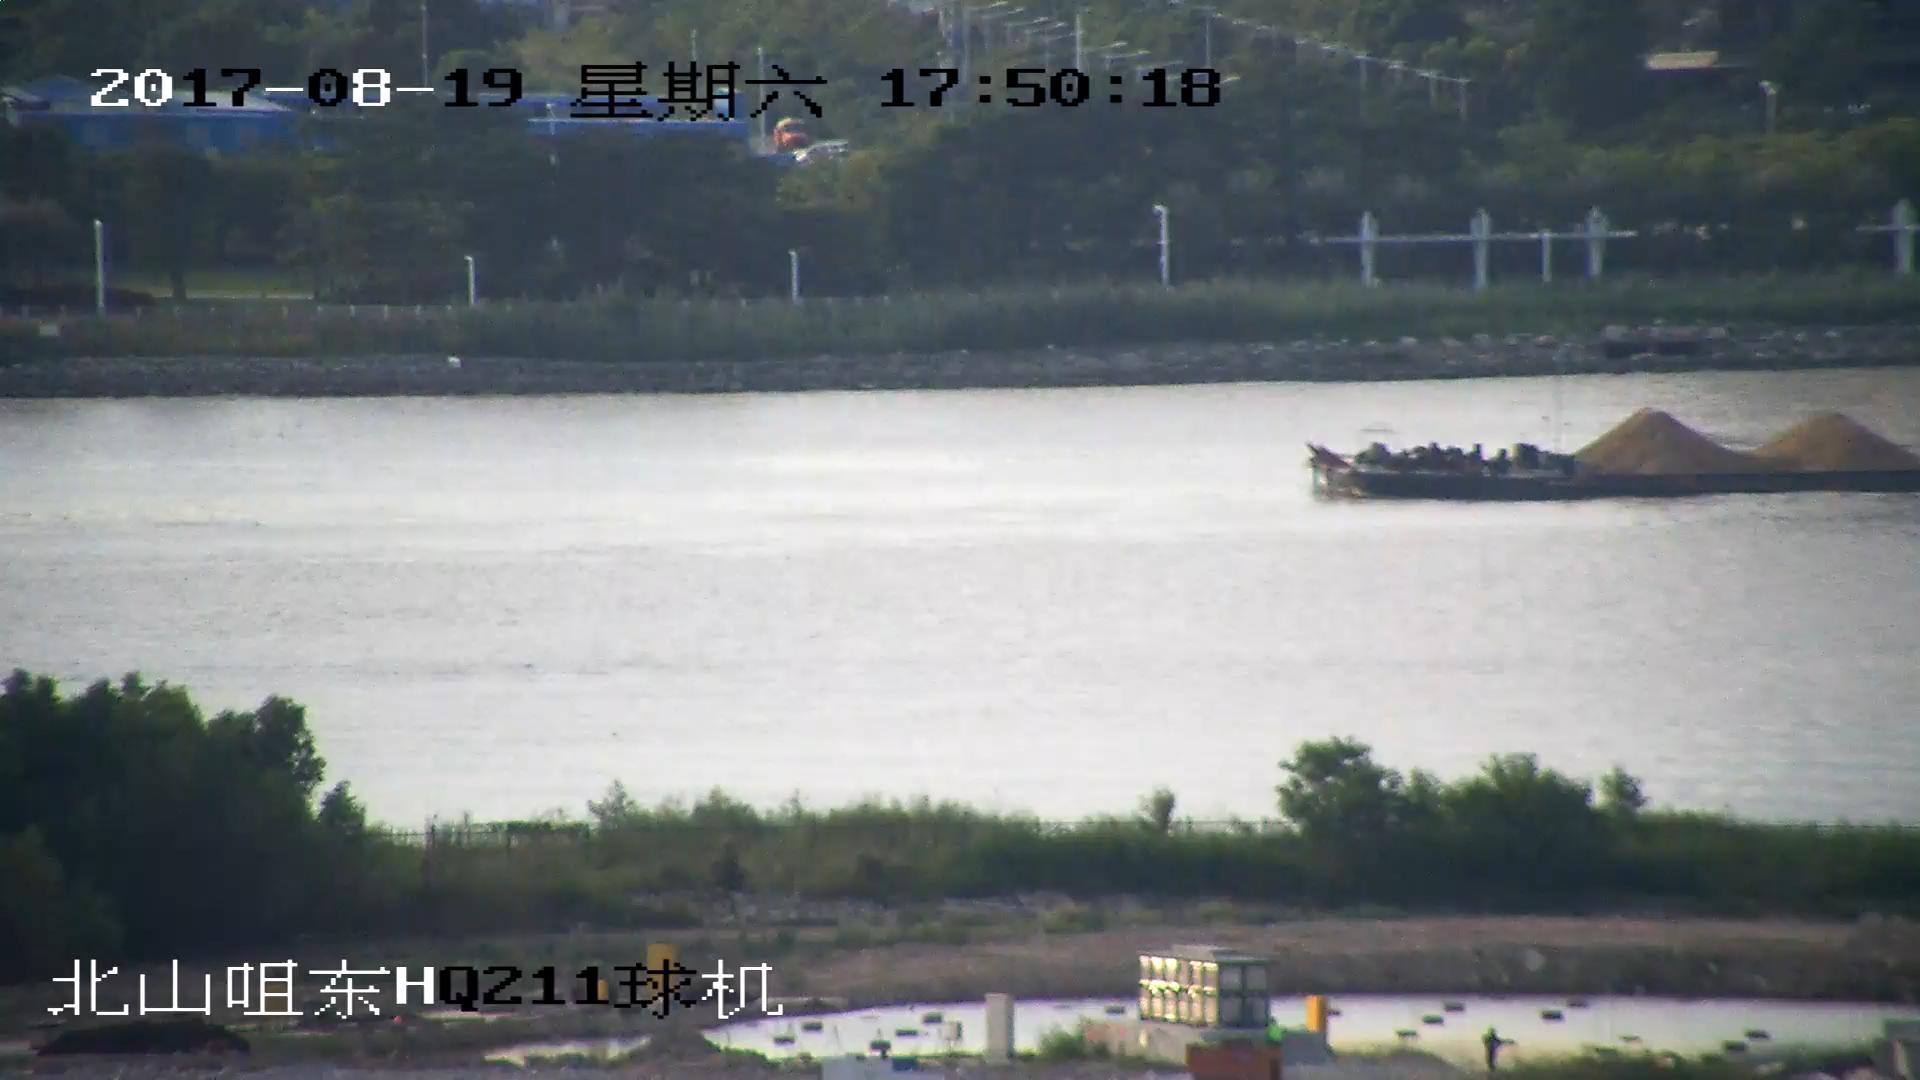Ship: (1302, 397, 1920, 508)
